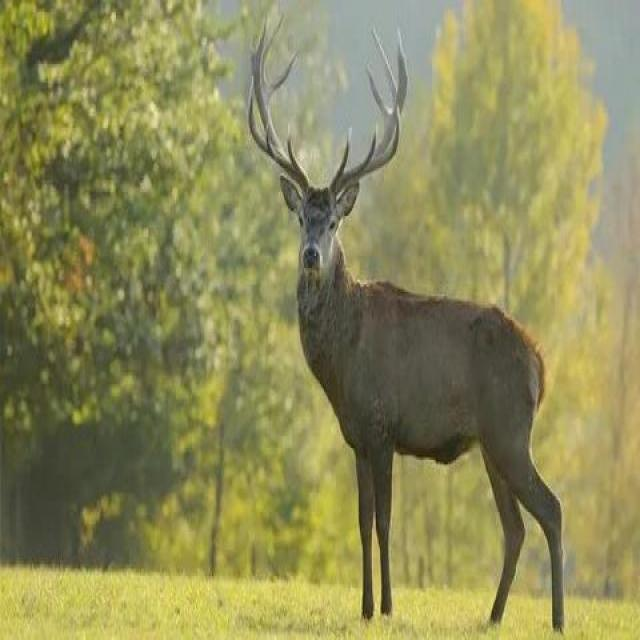deer: (261, 99, 639, 613)
